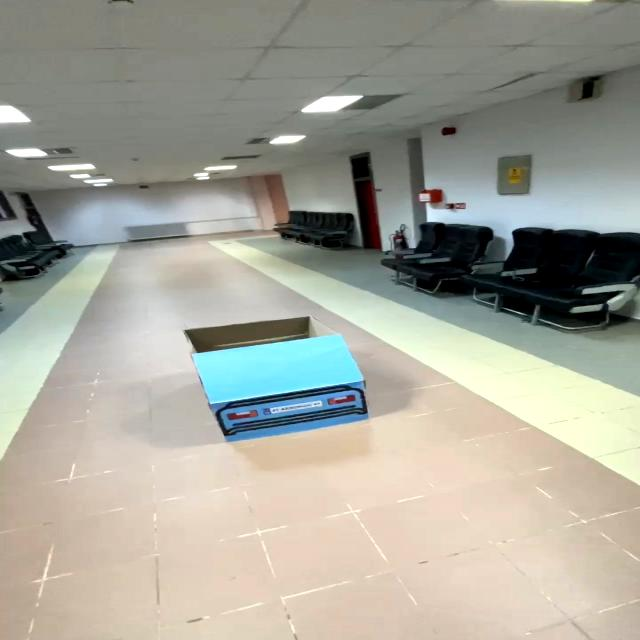blue_car: (160, 305, 390, 450)
